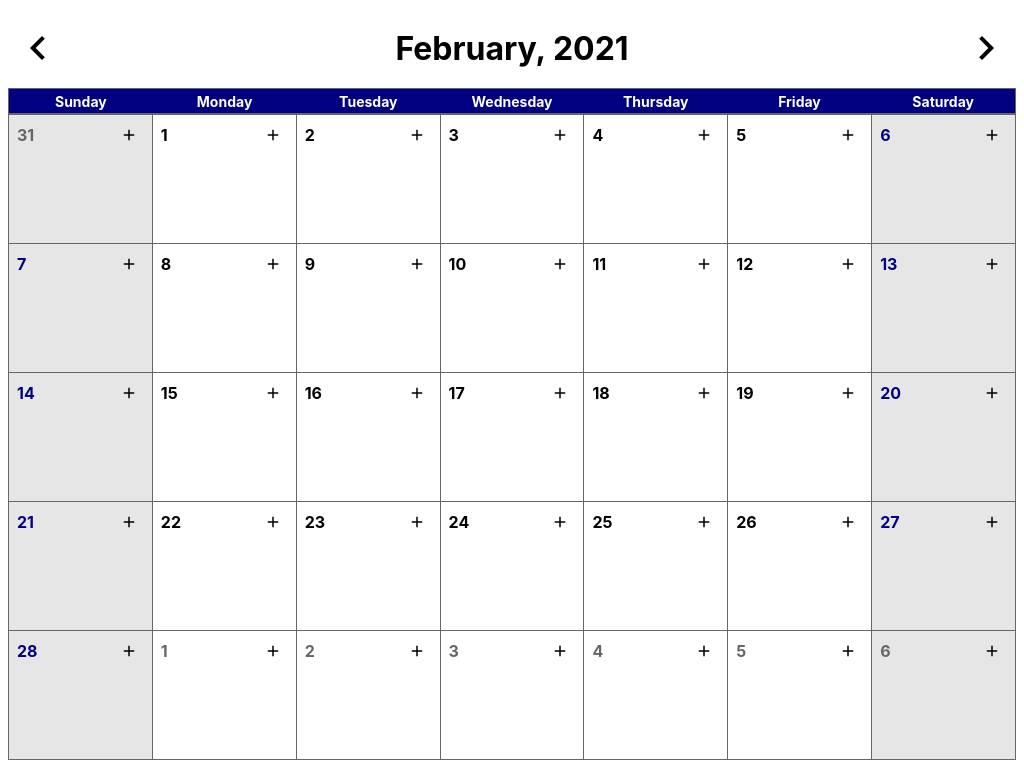
Test case: Calendar App › Given I open the calendar › And I am on February, 2021 › When I click in the previous month button › Then I should see the month of january
What coordinates should you click on to do the following:
click the button named "previous"
I would click on:
 (38, 48)
Its box is [8,23,68,73].
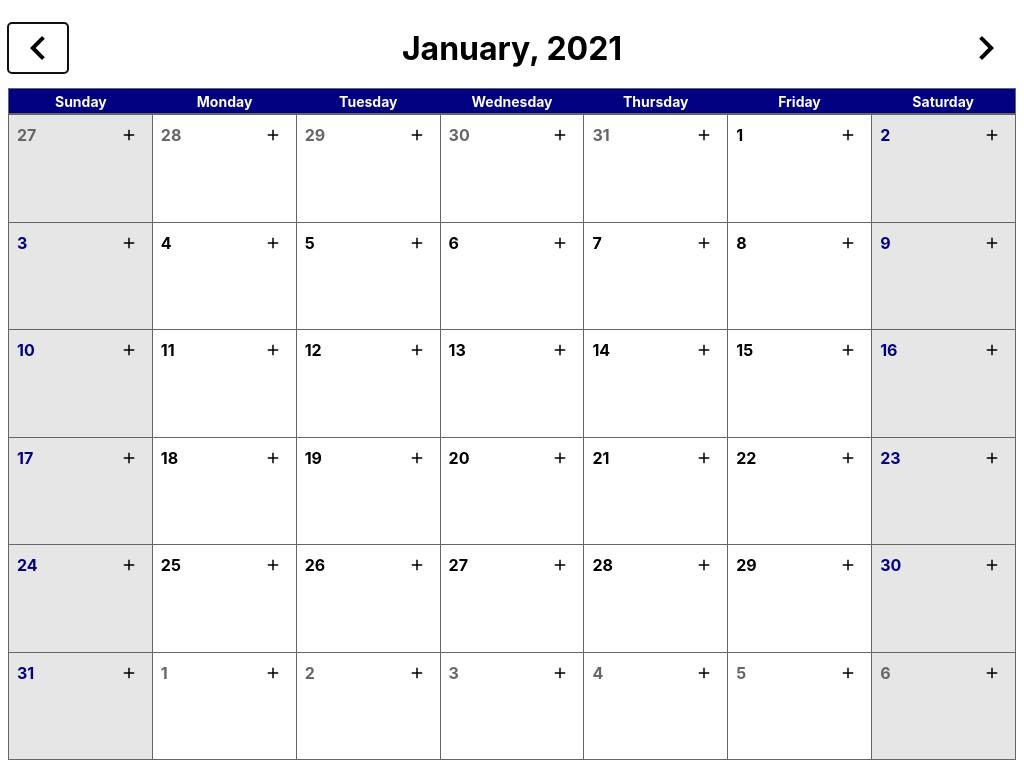
Check: the heading "January, 2021" is shown, box [402,28,622,68]
Check: the text "27" is shown 2 times, box [17,123,36,147]; [449,553,468,577]
Check: the text "6" is shown 2 times, box [449,230,459,254]; [880,660,890,684]
